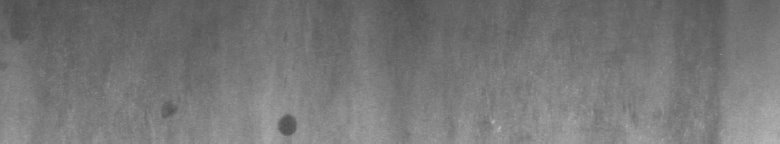fi: (272, 108, 304, 136)
